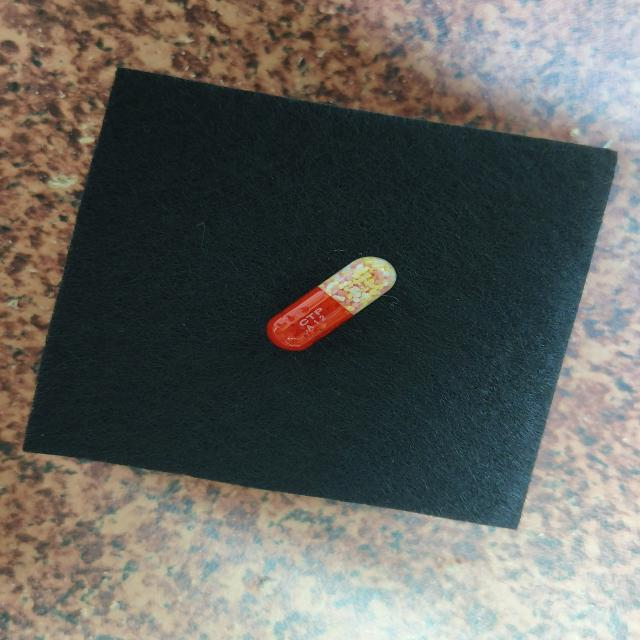Intact Capsule: (266, 257, 396, 351)
